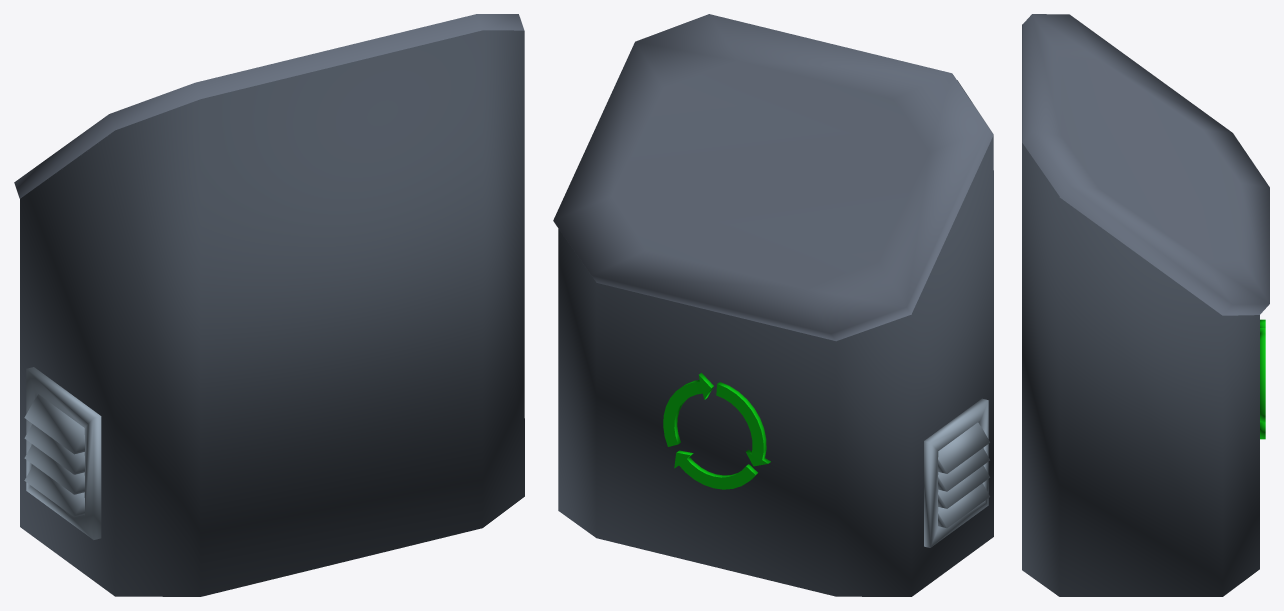
Rendered from recycler.fbx.
The picture shows the model from 3 angles, left to right: view 1: azimuth 30°, elevation 25°; view 2: azimuth 150°, elevation 25°; view 3: azimuth 270°, elevation 25°; orthographic projection. The views are drawn at different scales.
Visible parts, largest first — view 1: recycler; view 2: recycler; view 3: recycler.
Part boxes in pixels (x1,y1,x2,y2): recycler: (14,14,524,596); recycler: (553,14,993,596); recycler: (1022,14,1269,596).
Bounding box in the file's own units: 209 × 357 × 406.
